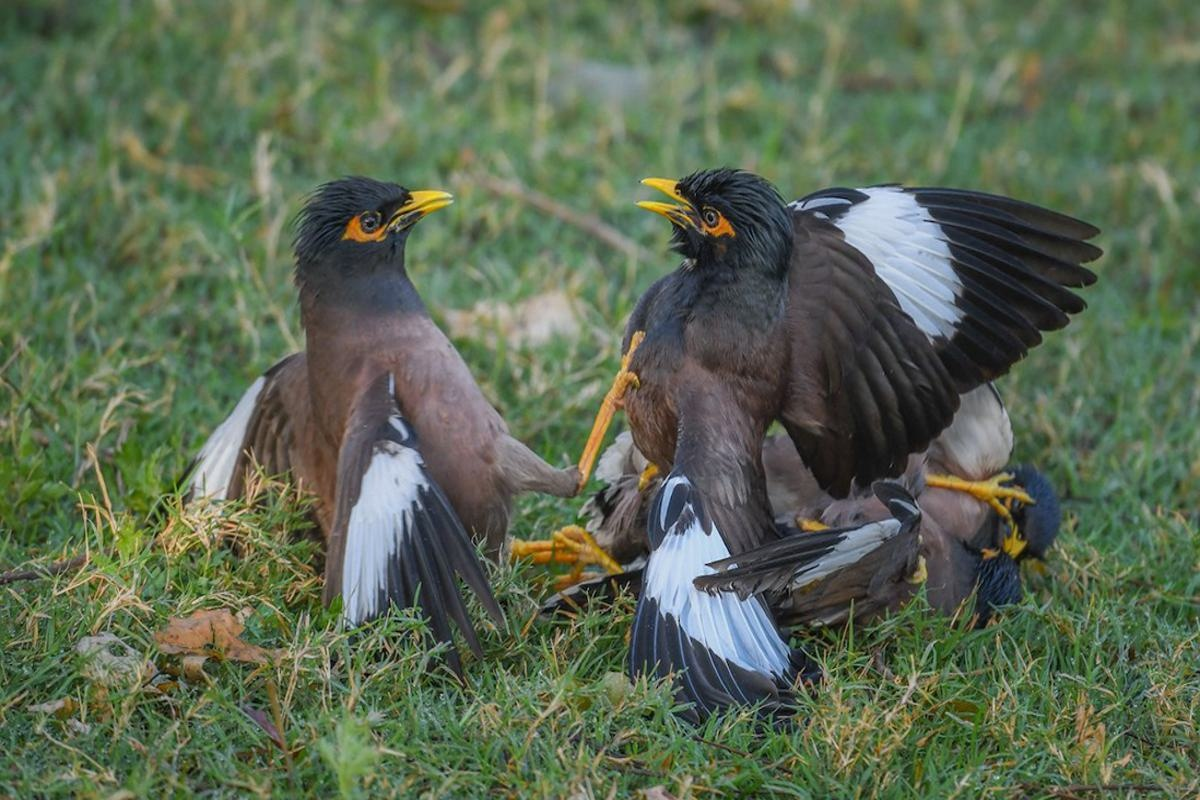myna: (138, 157, 548, 563), (608, 160, 947, 457)
